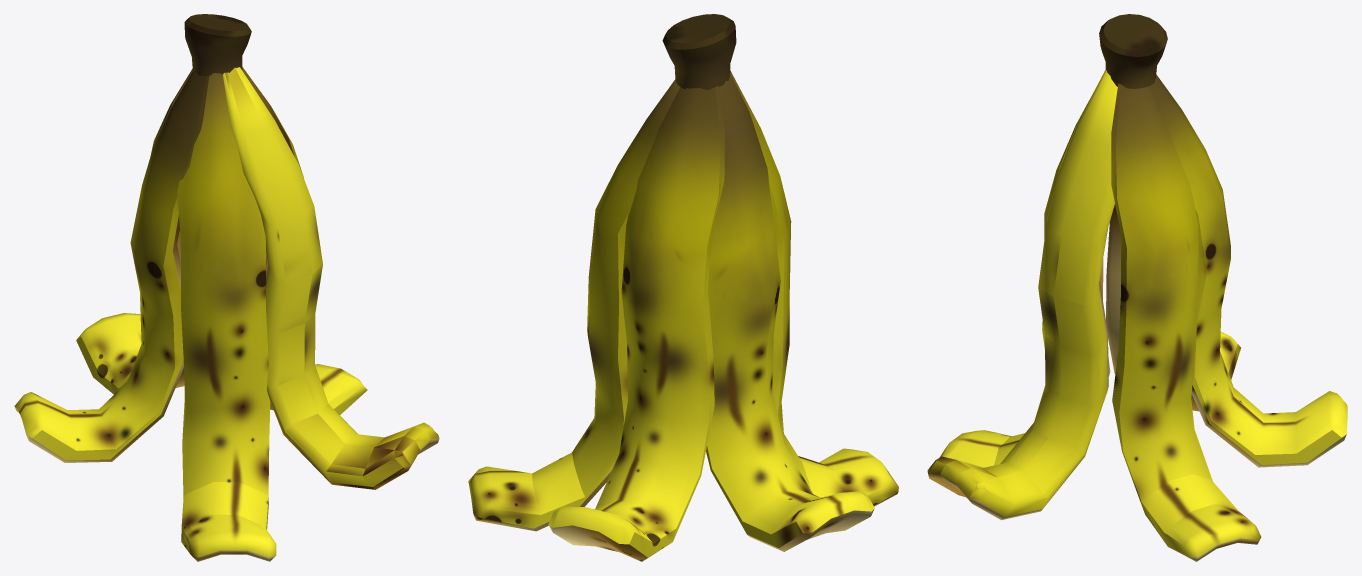
The model's file is banan.glb.
The picture shows the model from 3 angles, left to right: view 1: azimuth 30°, elevation 25°; view 2: azimuth 150°, elevation 25°; view 3: azimuth 270°, elevation 25°; orthographic projection. The views are drawn at different scales.
Parts seen in each view (by area): view 1: Box005; view 2: Box005; view 3: Box005.
Part boxes in pixels (x1=…): Box005: x1=14, y1=14, x2=439, y2=561; Box005: x1=468, y1=14, x2=898, y2=561; Box005: x1=927, y1=14, x2=1347, y2=561.
Size of the model in its own units: 12.06 by 15.48 by 12.29.
Materials: 1 (1 with a texture image).
